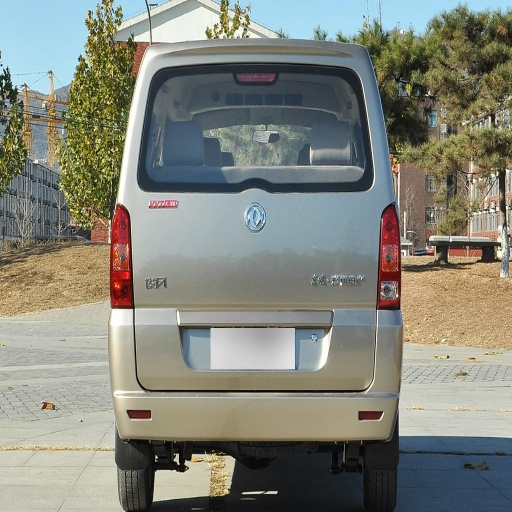back_bumper: (115, 341, 400, 440)
trunk: (113, 162, 398, 391)
